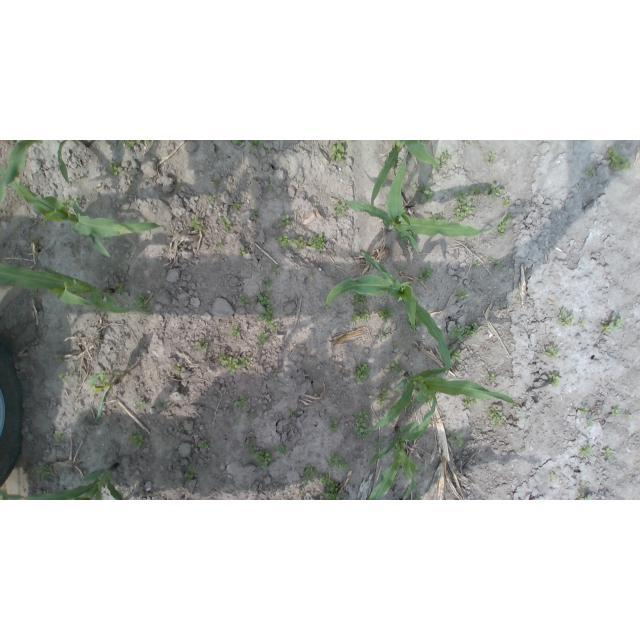Maize: (340, 151, 508, 253), (324, 251, 452, 378), (1, 166, 166, 261), (364, 368, 528, 433), (368, 398, 441, 500), (0, 263, 140, 315), (0, 140, 90, 200), (371, 140, 441, 206), (0, 464, 124, 499), (86, 372, 113, 427)
Weeds: (257, 292, 280, 333), (453, 190, 475, 221), (320, 472, 344, 500), (608, 148, 633, 173), (218, 355, 250, 373), (353, 408, 371, 440), (450, 322, 479, 340), (413, 183, 434, 203), (601, 315, 623, 334), (307, 233, 326, 254), (328, 453, 349, 472), (356, 364, 373, 385), (331, 140, 348, 161), (485, 183, 504, 201), (137, 292, 152, 314), (447, 430, 464, 449), (253, 452, 272, 469), (301, 464, 318, 483), (497, 214, 511, 237), (36, 463, 53, 481), (557, 309, 574, 327), (352, 308, 372, 323), (418, 264, 434, 282), (489, 407, 504, 425), (129, 429, 144, 447), (188, 215, 204, 231), (107, 160, 123, 176), (353, 293, 368, 308), (218, 215, 232, 231), (378, 308, 395, 321), (185, 468, 198, 485), (376, 387, 388, 405), (276, 234, 292, 247), (544, 346, 560, 359), (464, 395, 481, 407), (399, 231, 417, 242), (195, 339, 209, 353), (235, 395, 249, 409), (584, 165, 596, 180), (449, 348, 462, 361), (548, 374, 561, 387), (228, 325, 240, 339), (328, 419, 340, 433), (293, 236, 306, 248), (257, 332, 268, 345), (276, 444, 289, 455), (376, 330, 390, 340), (389, 361, 401, 372), (457, 289, 469, 300), (279, 215, 291, 226), (335, 202, 346, 214), (251, 140, 266, 148), (440, 151, 452, 161), (61, 196, 71, 208), (263, 276, 273, 288), (581, 446, 591, 457), (232, 200, 240, 213), (432, 158, 441, 169), (115, 284, 126, 293), (136, 400, 145, 411), (431, 213, 445, 220), (488, 152, 497, 162), (125, 141, 135, 150), (54, 432, 64, 441), (611, 407, 621, 416), (492, 257, 500, 268), (73, 196, 80, 208), (502, 199, 511, 208), (424, 396, 433, 405), (248, 444, 257, 453), (471, 187, 481, 195), (198, 440, 208, 448), (273, 265, 280, 276), (252, 208, 258, 220), (268, 183, 277, 191), (58, 372, 67, 380), (175, 363, 181, 375), (580, 406, 588, 415), (240, 296, 249, 304), (215, 239, 222, 249), (578, 495, 592, 500), (418, 140, 429, 146), (232, 141, 245, 146), (28, 236, 36, 244), (54, 354, 62, 362), (72, 246, 79, 255), (549, 473, 556, 482), (395, 156, 401, 166), (239, 248, 246, 256), (489, 372, 496, 380), (13, 177, 21, 184), (606, 448, 613, 456), (391, 343, 400, 349), (248, 412, 256, 418), (474, 262, 481, 268), (208, 196, 216, 201), (157, 404, 164, 409), (288, 412, 293, 419), (415, 496, 423, 500), (588, 419, 592, 427), (136, 140, 142, 145), (214, 179, 219, 185), (580, 320, 585, 326), (371, 462, 375, 469), (376, 444, 381, 449), (268, 148, 273, 153), (428, 176, 433, 181), (231, 420, 237, 424), (628, 414, 633, 418), (8, 141, 14, 144), (146, 140, 150, 144), (311, 273, 315, 277), (120, 141, 125, 144), (399, 268, 403, 271)
